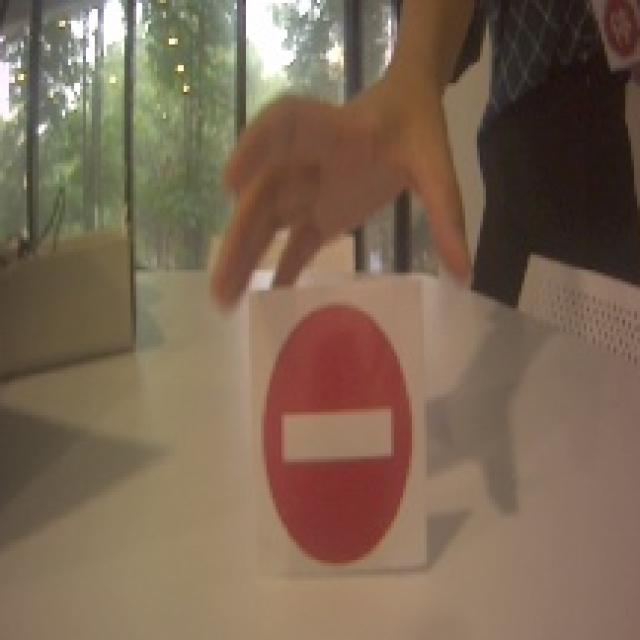DoNotEnterSign: (262, 305, 417, 569)
